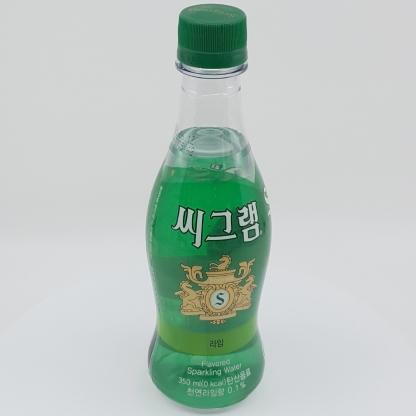-------350ML: (145, 4, 272, 411)
